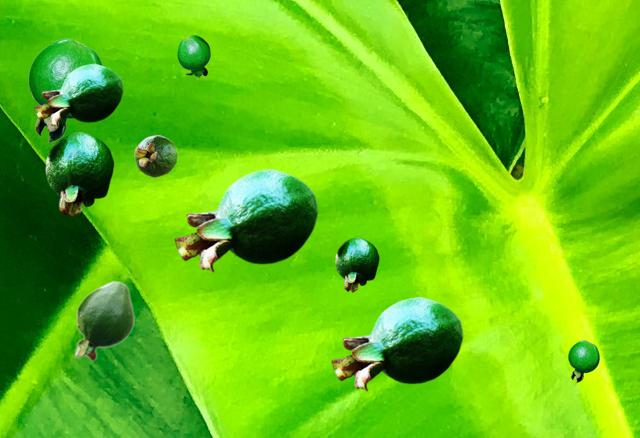guava: (174, 168, 317, 271), (331, 296, 462, 390), (28, 38, 103, 141), (45, 131, 113, 216), (34, 63, 122, 126), (74, 280, 133, 361), (335, 237, 378, 291), (134, 135, 176, 176), (177, 35, 209, 76), (568, 340, 598, 381)
